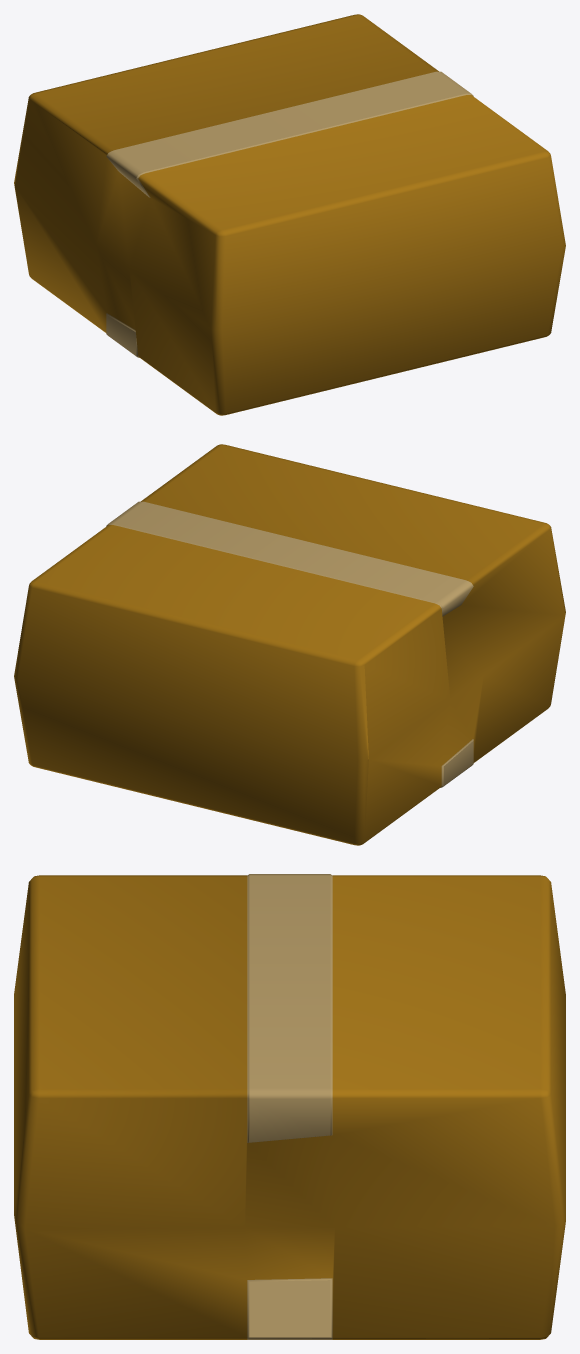
File: Box_Model_crushed(3x3x3).fbx
3 views of the same model, one above another, from view 1: azimuth 30°, elevation 25°; view 2: azimuth 150°, elevation 25°; view 3: azimuth 270°, elevation 25° (orthographic). The views are drawn at different scales.
Parts seen in each view (by area): view 1: 3x3x3_crushed; view 2: 3x3x3_crushed; view 3: 3x3x3_crushed.
Part boxes in pixels (bbox=[...]): 3x3x3_crushed: bbox=[14, 14, 565, 415]; 3x3x3_crushed: bbox=[14, 444, 565, 845]; 3x3x3_crushed: bbox=[14, 874, 565, 1339].
Size of the model in its own units: 30 by 15 by 30.
